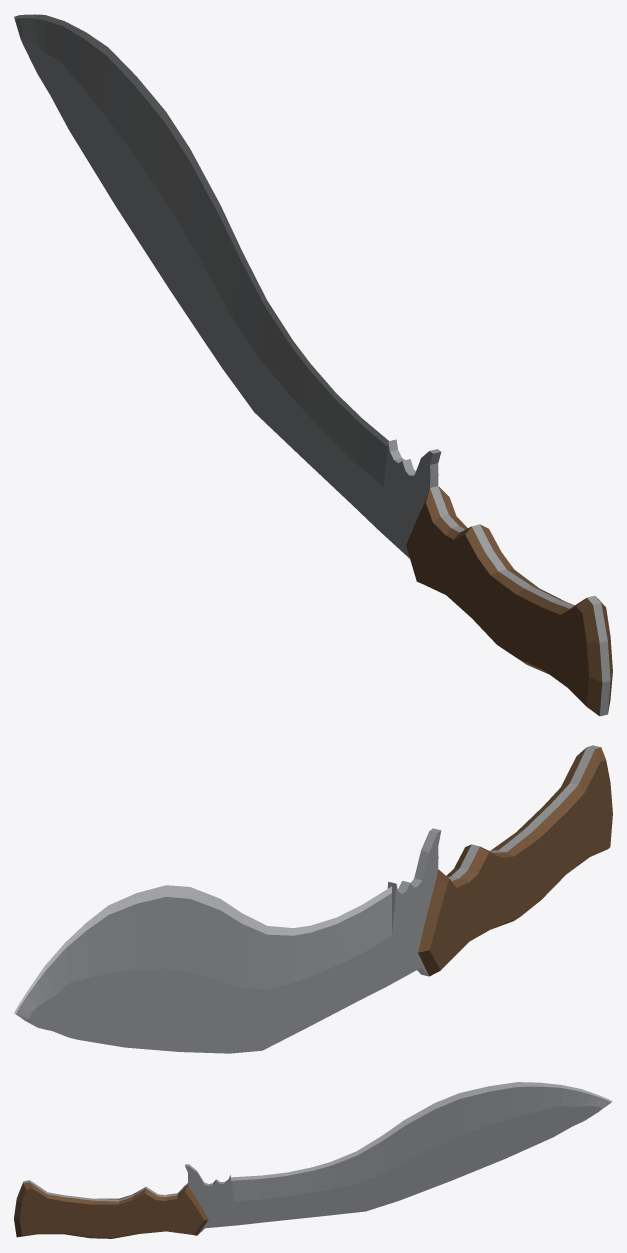
The model's file is kukri.glb.
The picture shows the model from 3 angles, top to bottom: view 1: azimuth 30°, elevation 25°; view 2: azimuth 150°, elevation 25°; view 3: azimuth 270°, elevation 25°; orthographic projection. The views are drawn at different scales.
Visible parts, largest first — view 1: kukri; view 2: kukri; view 3: kukri.
Boxes of the visible parts, x1,y1,x2,y2 form: kukri: [14, 14, 612, 716]; kukri: [14, 745, 612, 1053]; kukri: [14, 1082, 612, 1238].
Bounding box in the file's own units: 0.00974 × 0.1206 × 0.42.
